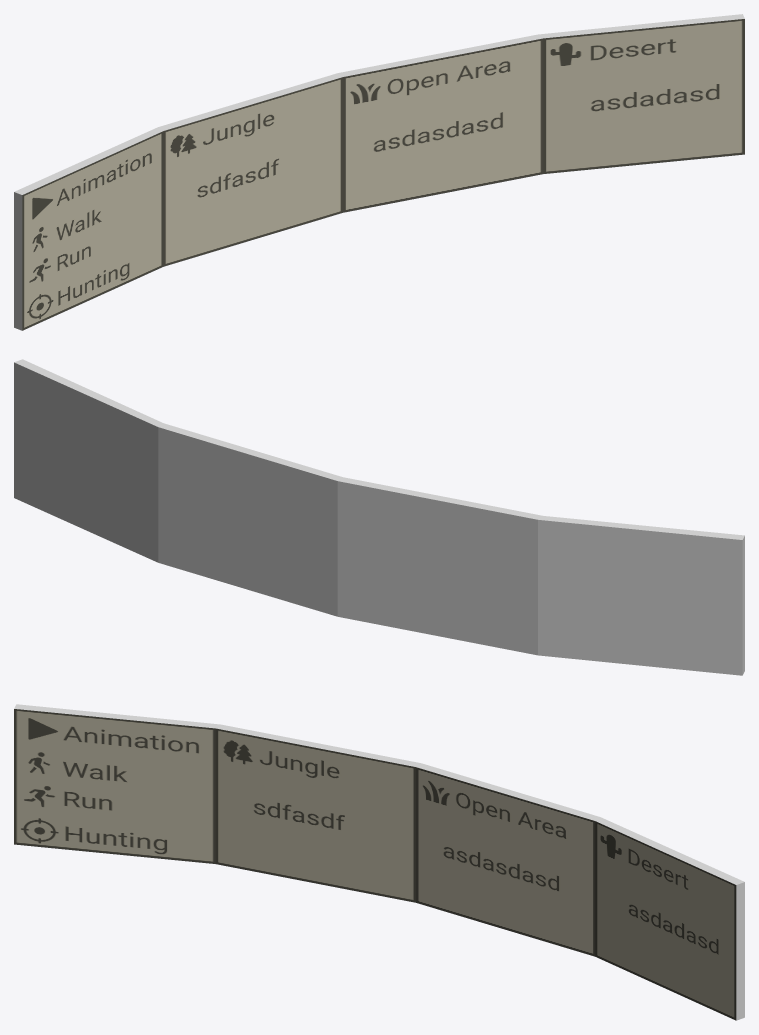
The model's file is panels 1.FBX.
3 renders of one model, top to bottom at view 1: azimuth 30°, elevation 25°; view 2: azimuth 150°, elevation 25°; view 3: azimuth 330°, elevation 25°, orthographic.
Visible parts, largest first — view 1: Panel1, Cylinder002; view 2: Cylinder002; view 3: Panel1, Cylinder002.
Part boxes in pixels (left/top/right/bottom): Panel1: left=22, top=19, right=744, bottom=330; Cylinder002: left=14, top=14, right=744, bottom=330; Cylinder002: left=14, top=359, right=744, bottom=675; Panel1: left=14, top=709, right=736, bottom=1020; Cylinder002: left=14, top=704, right=744, bottom=1020.
Size of the model in its own units: 2109 by 375 by 231.
1 material, 1 textured.
